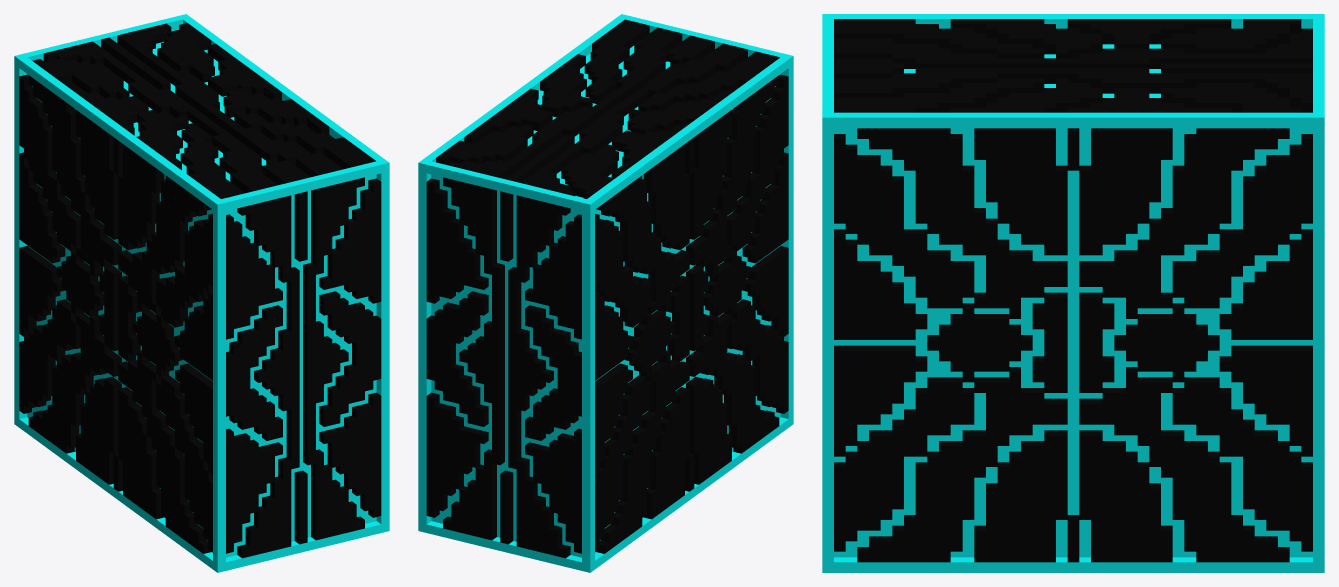
File: HalfSquareHull.FBX
3 renders of one model, left to right at view 1: azimuth 30°, elevation 25°; view 2: azimuth 150°, elevation 25°; view 3: azimuth 270°, elevation 25°, orthographic. The views are drawn at different scales.
Parts seen in each view (by area): view 1: HalfSquare; view 2: HalfSquare; view 3: HalfSquare.
Boxes of the visible parts, x1,y1,x2,y2 form: HalfSquare: (14,14,389,572); HalfSquare: (418,14,793,572); HalfSquare: (822,14,1324,572).
Bounding box in the file's own units: 21 × 43 × 43.
